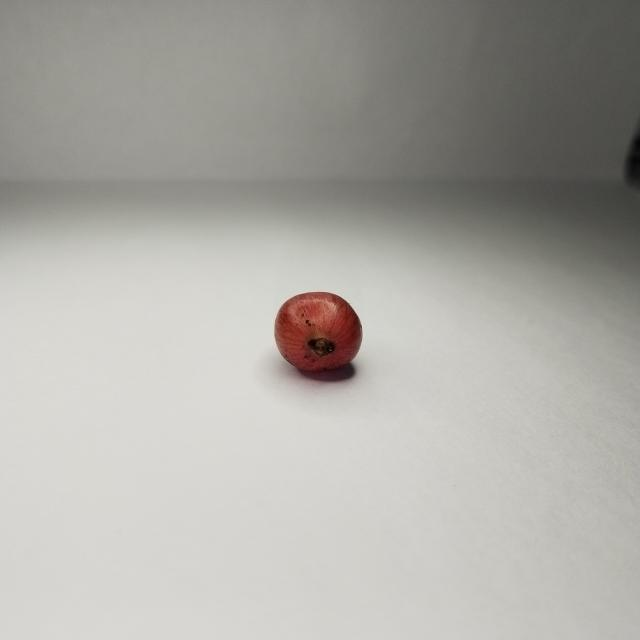Infectado: (276, 292, 361, 373)
